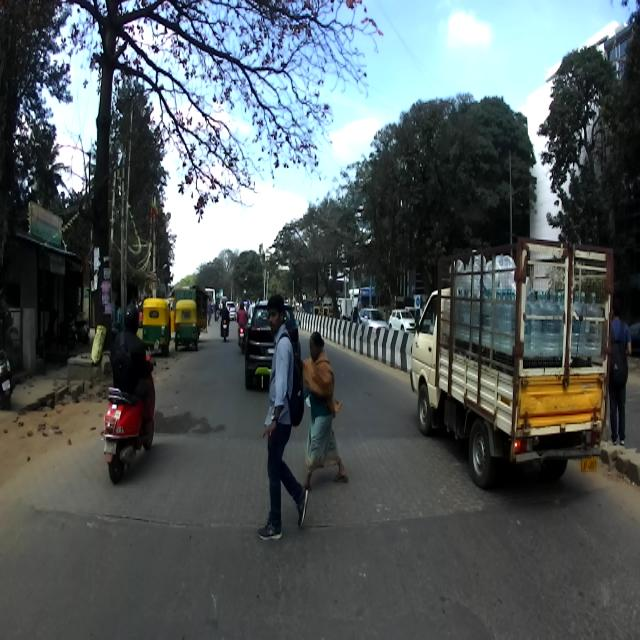car ahead at: (410, 244, 613, 482)
motorcycle ahead at: (100, 376, 162, 480)
person ahead at: (256, 296, 316, 556)
